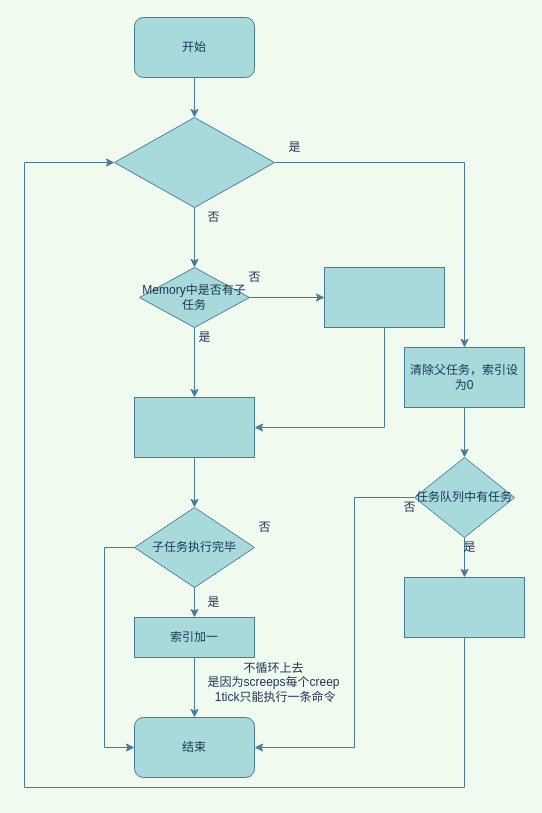
Image size: 542x813. Some labels were removed from this diagram. Here are the shapes that lost their labels. From the top down, the box of each, then its label:
(114, 116, 274, 208): 索引是否达到父任务设置的最大值
(324, 266, 444, 328): 获取下一个子任务
(134, 396, 254, 458): 执行子任务
(404, 576, 524, 638): 取出任务
